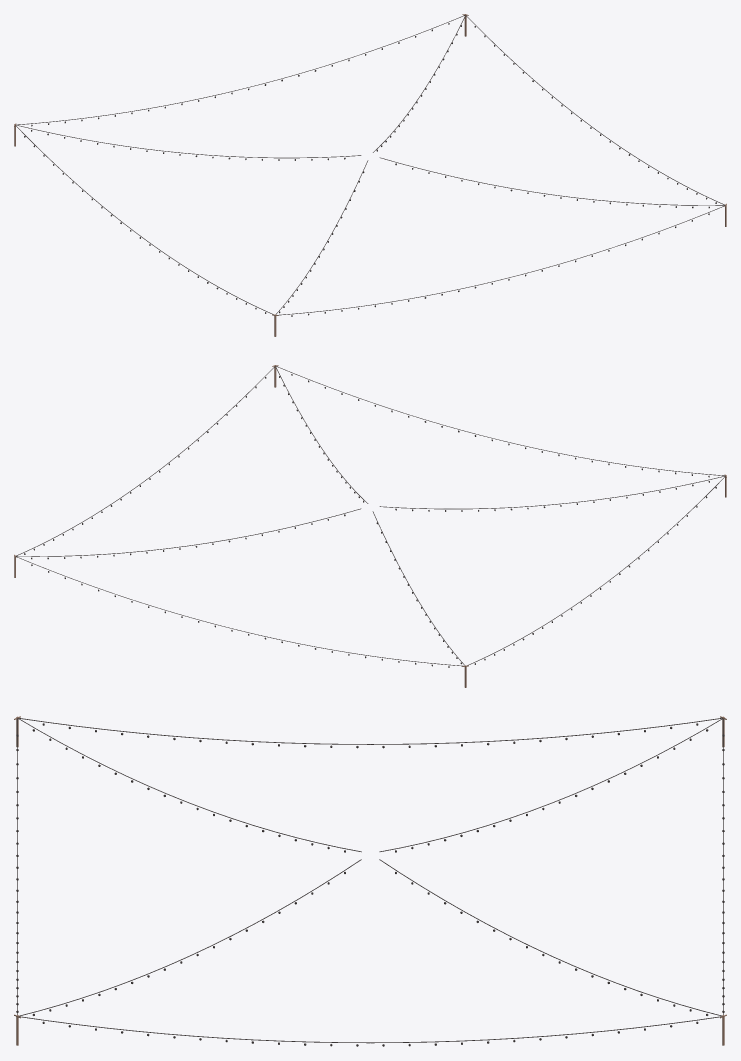
The model's file is yard_festoon.glb.
3 views of the same model, one above another, from view 1: azimuth 30°, elevation 25°; view 2: azimuth 150°, elevation 25°; view 3: azimuth 270°, elevation 25° (orthographic). The views are drawn at different scales.
Parts seen in each view (by area): view 1: wire; view 2: wire; view 3: wire, wire.017.
Boxes of the visible parts, bbox=[...] form: wire: bbox=[15, 15, 724, 315]; wire: bbox=[16, 366, 725, 666]; wire: bbox=[17, 718, 723, 1043]; wire.017: bbox=[16, 723, 724, 1046].
Bounding box in the file's own units: 39.19 × 2.57 × 39.19.
